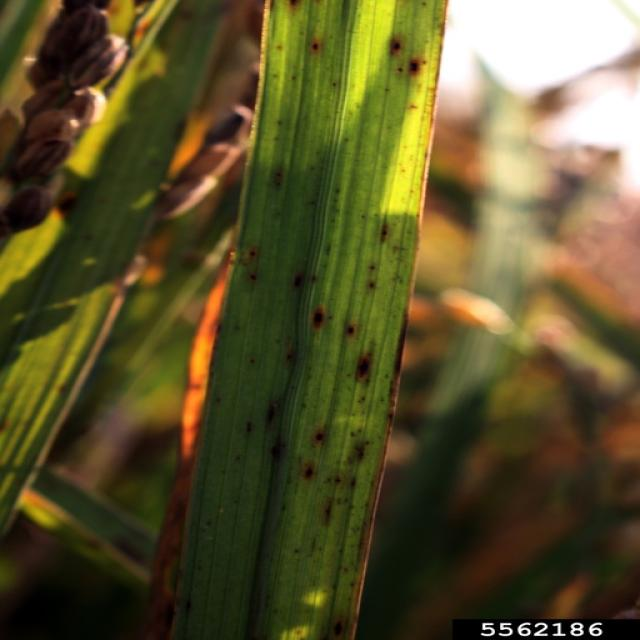Brown spot: (237, 235, 276, 292), (258, 161, 296, 198), (368, 206, 398, 252), (356, 340, 380, 388), (304, 301, 336, 330), (317, 498, 342, 532), (366, 258, 387, 298), (346, 436, 372, 467), (342, 310, 364, 346), (261, 393, 283, 429), (402, 55, 431, 81), (270, 430, 290, 465), (293, 266, 312, 296), (303, 36, 327, 58), (312, 419, 330, 448), (382, 34, 402, 59), (303, 460, 318, 489), (331, 614, 348, 638), (282, 0, 314, 12), (239, 416, 254, 440), (347, 471, 363, 491), (331, 469, 341, 487), (281, 350, 292, 365)
